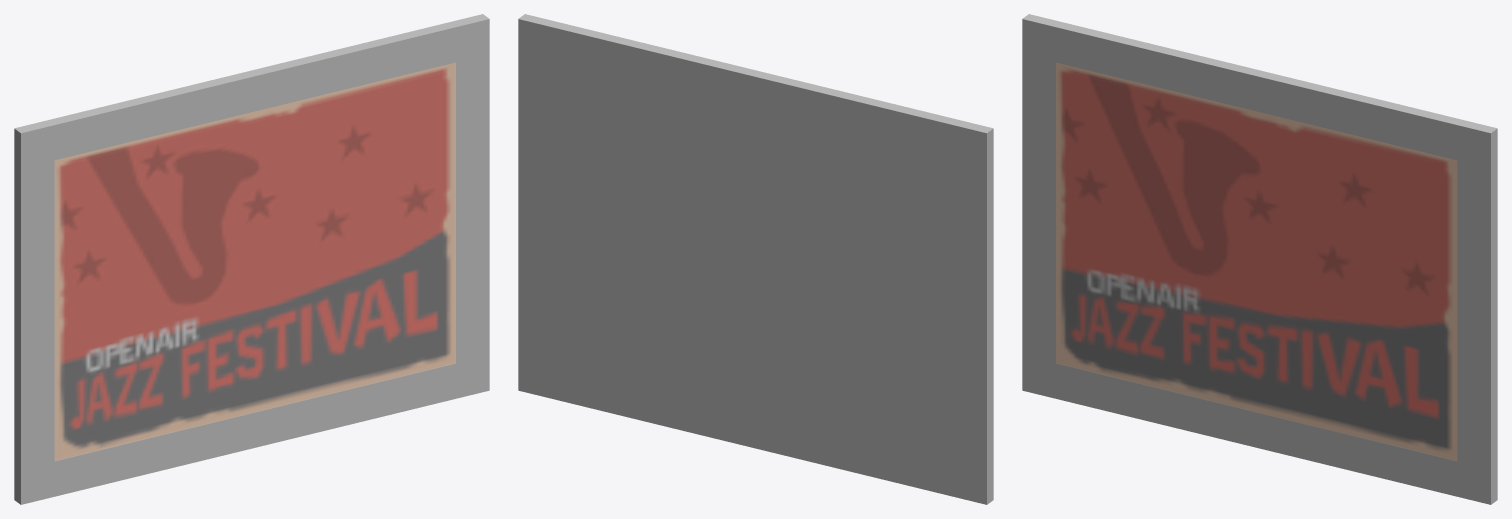
File: Picture Black A.fbx
3 views of the same model, side by side, from view 1: azimuth 30°, elevation 25°; view 2: azimuth 150°, elevation 25°; view 3: azimuth 330°, elevation 25° (orthographic).
Visible parts, largest first — view 1: Picture Black A; view 2: Picture Black A; view 3: Picture Black A.
Part boxes in pixels (bbox=[...]): Picture Black A: bbox=[14, 14, 489, 504]; Picture Black A: bbox=[518, 14, 993, 504]; Picture Black A: bbox=[1022, 14, 1497, 504].
Size of the model in its own units: 37.49 by 28.4 by 0.942.
